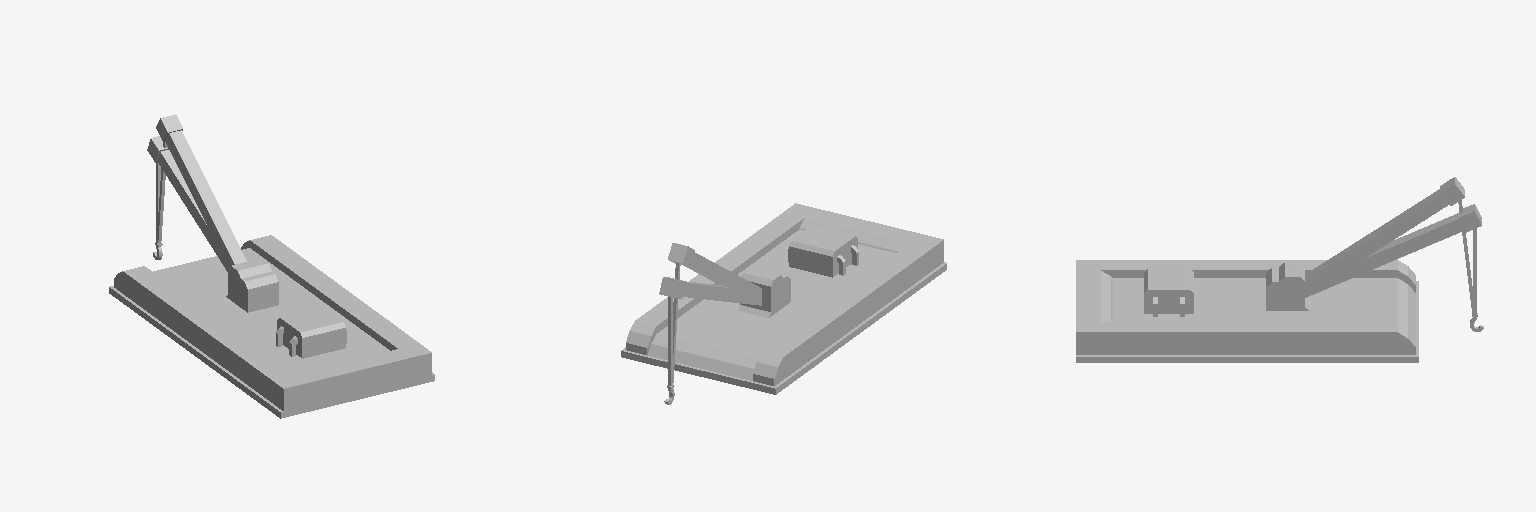
File: towbed.obj
3 views of the same model, side by side, from view 1: azimuth 30°, elevation 25°; view 2: azimuth 150°, elevation 25°; view 3: azimuth 270°, elevation 25° (orthographic).
Parts seen in each view (by area): view 1: assman, tow, townt; view 2: assman, tow, townt; view 3: assman, tow, townt.
Part boxes in pixels (x1,y1,x2,y2): assman: (109, 235, 434, 418); tow: (153, 114, 246, 264); townt: (147, 136, 231, 271); assman: (621, 203, 946, 394); tow: (664, 243, 761, 404); townt: (659, 277, 761, 403); assman: (1076, 260, 1418, 362); tow: (1305, 177, 1483, 331); townt: (1305, 204, 1482, 331).
Size of the model in its own units: 3.12 by 2.92 by 7.13.